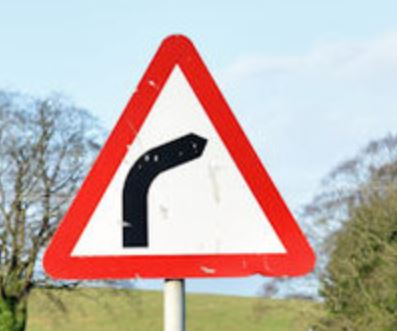Bend_to_right: (39, 30, 322, 282)
